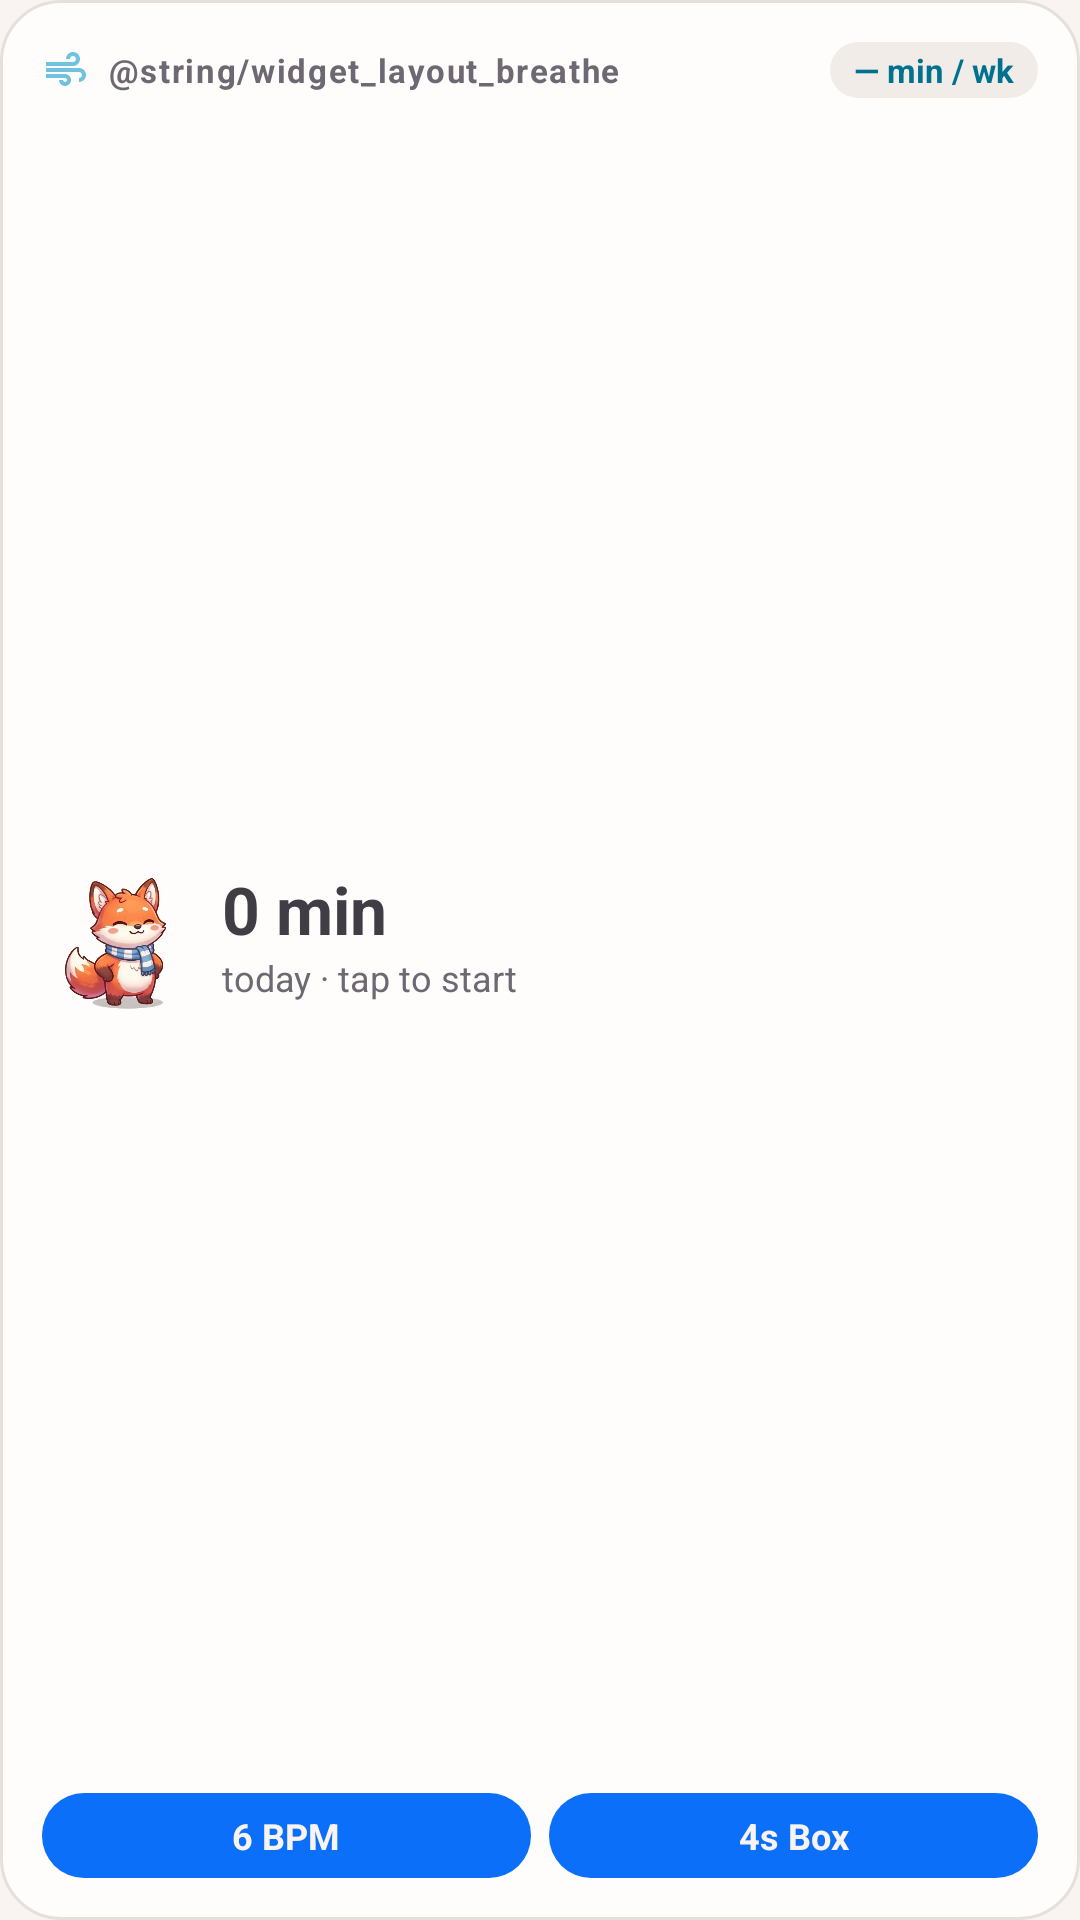

Icons on this 1080px x 1920px Android screen, each with its box as region(x1, y1, x2, y2):
widget breath: region(46, 52, 86, 86)
